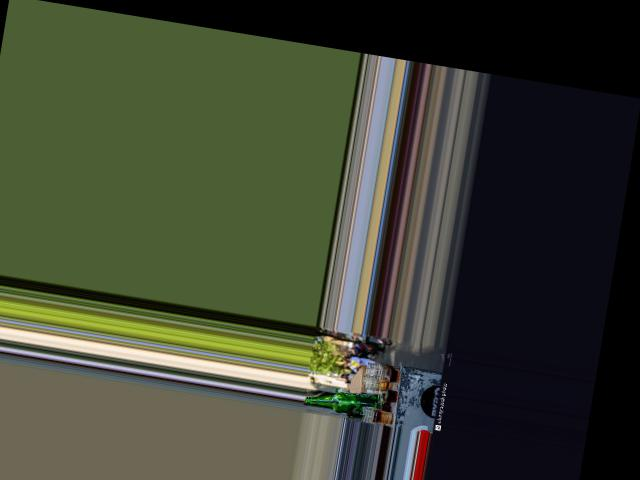beer: (304, 382, 388, 420)
